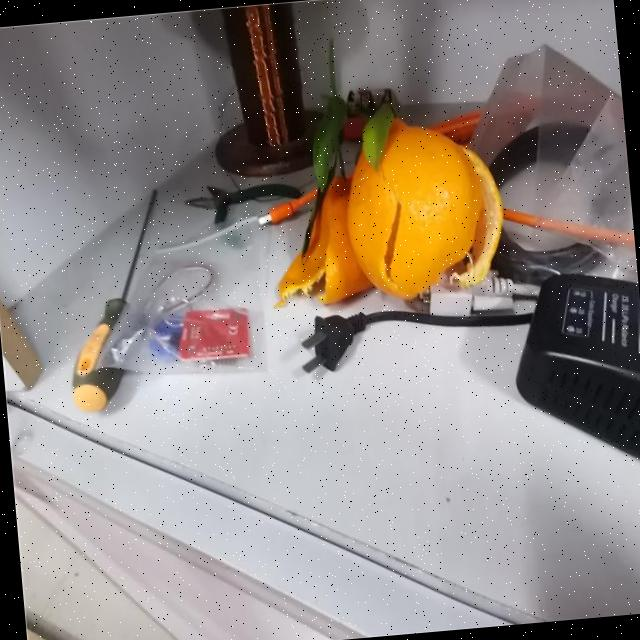orange-peel: (336, 109, 490, 303)
